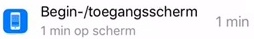name: (35, 1, 202, 21)
time: (38, 24, 72, 38)
